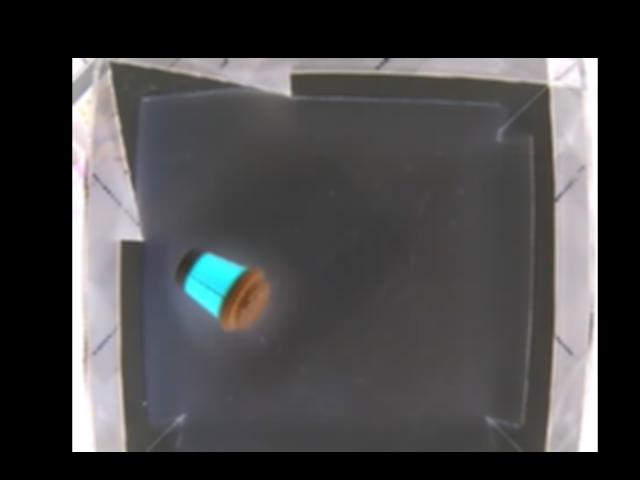Cup: (175, 250, 271, 331)
